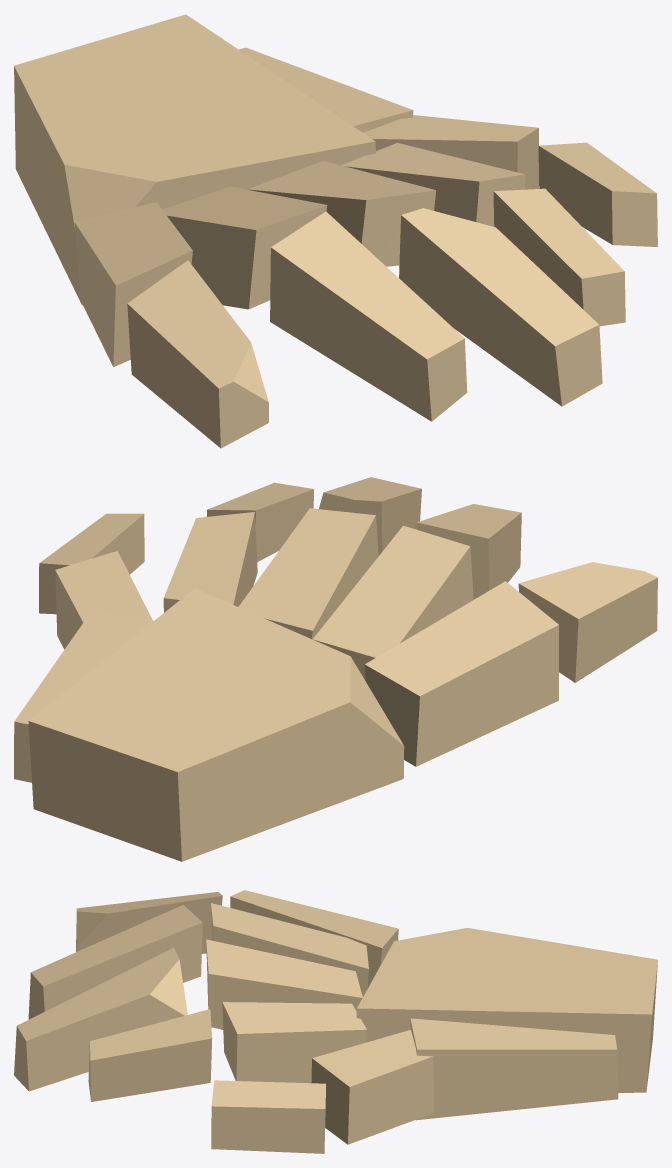
File: Bone_Hand_1__0.glb
3 renders of one model, top to bottom at view 1: azimuth 30°, elevation 25°; view 2: azimuth 150°, elevation 25°; view 3: azimuth 270°, elevation 25°, orthographic. The views are drawn at different scales.
Parts seen in each view (by area): view 1: Bone_Hand_1__0; view 2: Bone_Hand_1__0; view 3: Bone_Hand_1__0.
Boxes of the visible parts, x1,y1,x2,y2 form: Bone_Hand_1__0: (14, 14, 657, 448); Bone_Hand_1__0: (14, 477, 657, 861); Bone_Hand_1__0: (14, 890, 657, 1153).
Bounding box in the file's own units: 0.1378 × 0.04 × 0.1839.
Materials: 1 (1 with a texture image).
